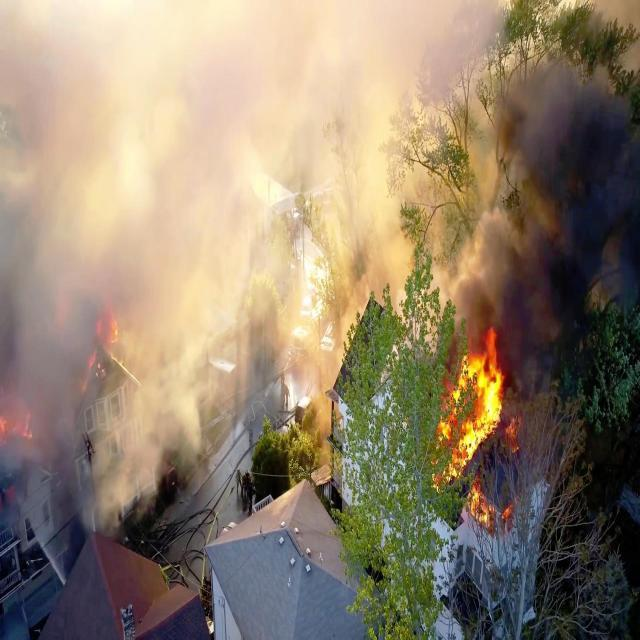Fire: (439, 335, 525, 531)
Smoke: (0, 0, 342, 518), (345, 2, 492, 326), (502, 78, 640, 342)
